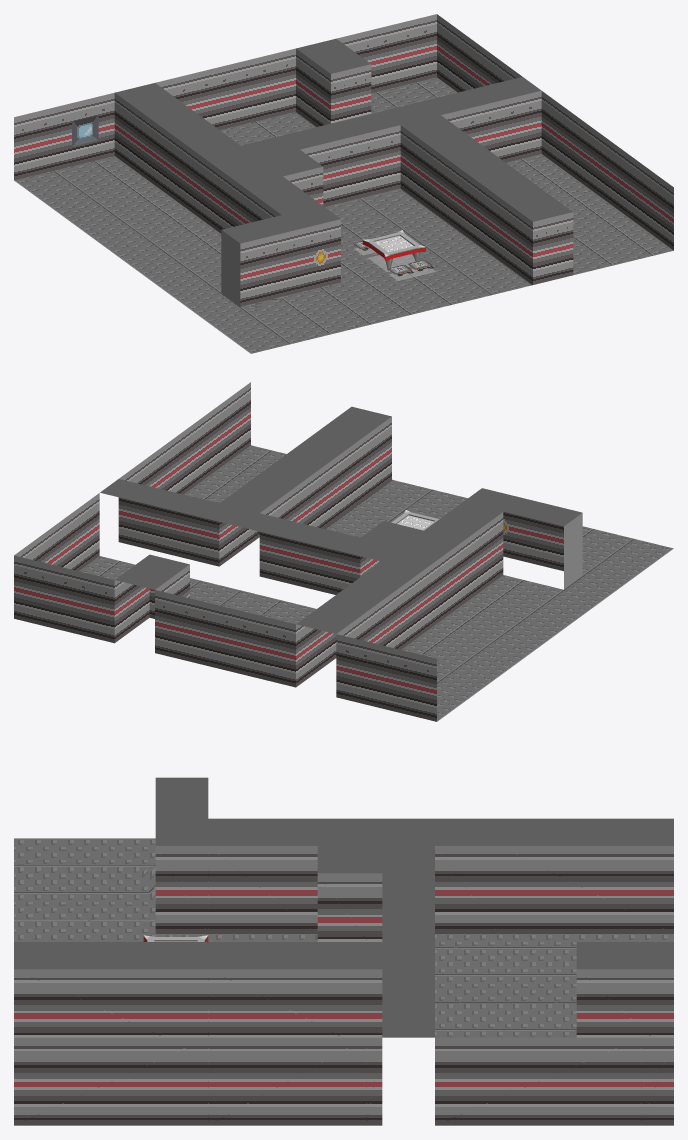
The model's file is GALHQ5-`.obj.
The picture shows the model from 3 angles, top to bottom: view 1: azimuth 30°, elevation 25°; view 2: azimuth 150°, elevation 25°; view 3: azimuth 270°, elevation 25°; orthographic projection. The views are drawn at different scales.
Visible parts, largest first — view 1: m_dun2602_01_00c; view 2: m_dun2602_01_00c; view 3: m_dun2602_01_00c.
Boxes of the visible parts, bbox=[...] form: m_dun2602_01_00c: bbox=[14, 14, 673, 353]; m_dun2602_01_00c: bbox=[14, 382, 673, 721]; m_dun2602_01_00c: bbox=[14, 777, 673, 1125].
Bounding box in the file's own units: 336 × 48 × 326.
